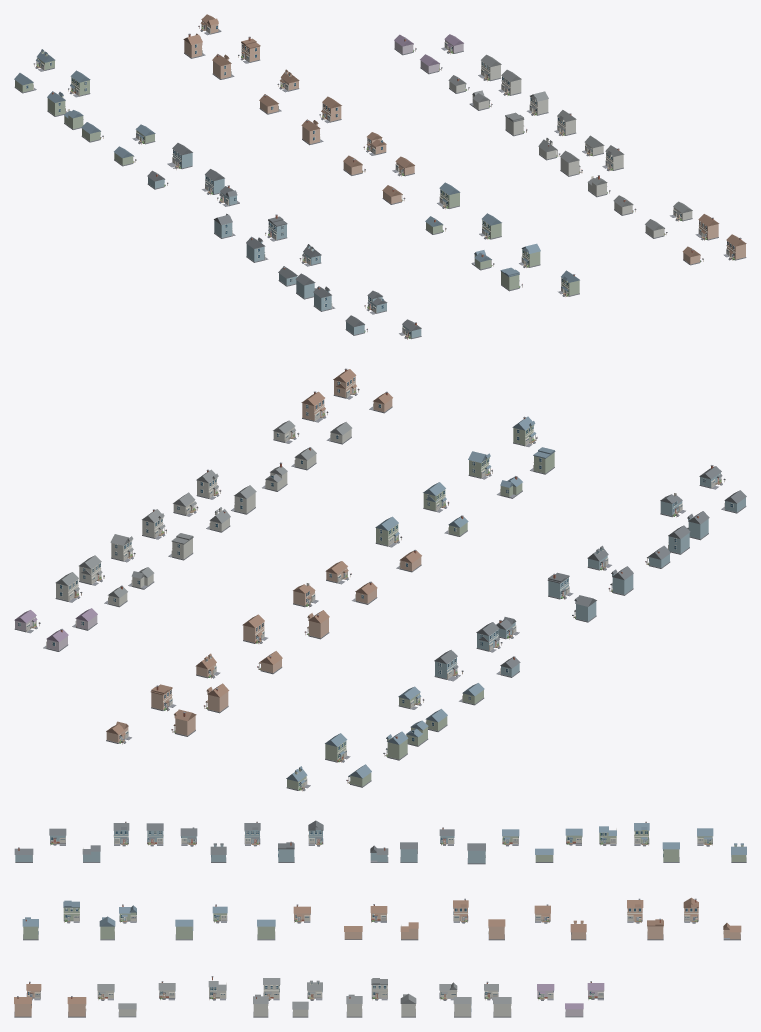
The model's file is ember-ridge.glb.
3 renders of one model, top to bottom at view 1: azimuth 30°, elevation 25°; view 2: azimuth 150°, elevation 25°; view 3: azimuth 270°, elevation 25°, orthographic. The views are drawn at different scales.
Visible parts, largest first — view 1: no part large enough to name; view 2: no part large enough to name; view 3: suburban_44_double_garage.018, suburban_29_double_garage.016, suburban_42_side_garage_two.018, suburban_20_garage_colonial.016, suburban_59_double_garage.019, suburban_74_double_garage.015, suburban_72_side_garage_two.017, suburban_53_suburban_farmhouse.019, suburban_23_suburban_farmhouse.016, suburban_57_side_garage_two.019, suburban_39_modern_suburban.018, suburban_50_garage_colonial.019 (+16 smaller).
Part boxes in pixels (<box>): suburban_44_double_garage.018: <box>257,919,275,940</box>; suburban_29_double_garage.016: <box>467,843,485,864</box>; suburban_42_side_garage_two.018: <box>175,919,193,940</box>; suburban_20_garage_colonial.016: <box>146,823,163,846</box>; suburban_59_double_garage.019: <box>67,996,86,1017</box>; suburban_74_double_garage.015: <box>493,997,511,1017</box>; suburban_72_side_garage_two.017: <box>453,997,471,1017</box>; suburban_53_suburban_farmhouse.019: <box>627,898,643,923</box>; suburban_23_suburban_farmhouse.016: <box>244,821,260,846</box>; suburban_57_side_garage_two.019: <box>14,996,31,1017</box>; suburban_39_modern_suburban.018: <box>63,900,79,923</box>; suburban_50_garage_colonial.019: <box>488,919,505,940</box>.
Size of the model in its own units: 162 by 8.31 by 281.
